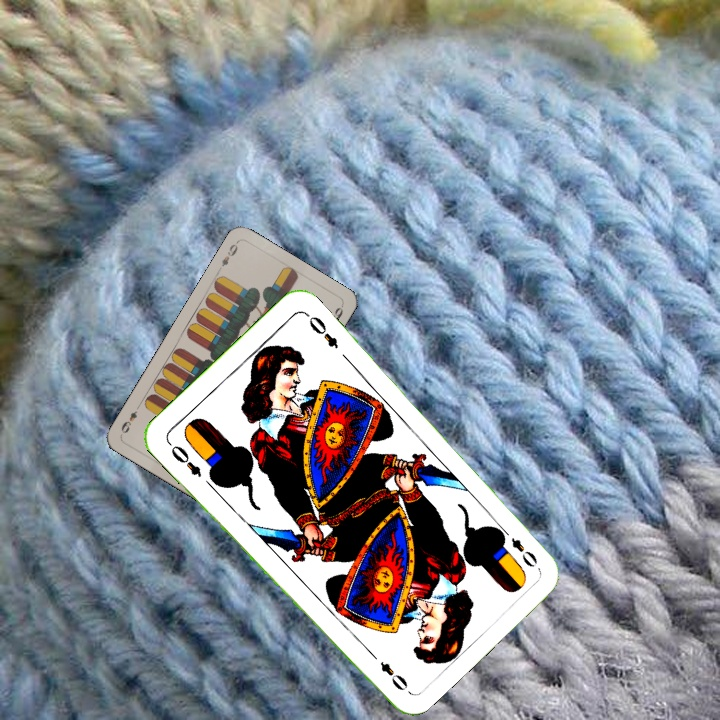E9: (214, 238, 241, 275)
EO: (495, 523, 541, 570), (164, 438, 204, 480)
